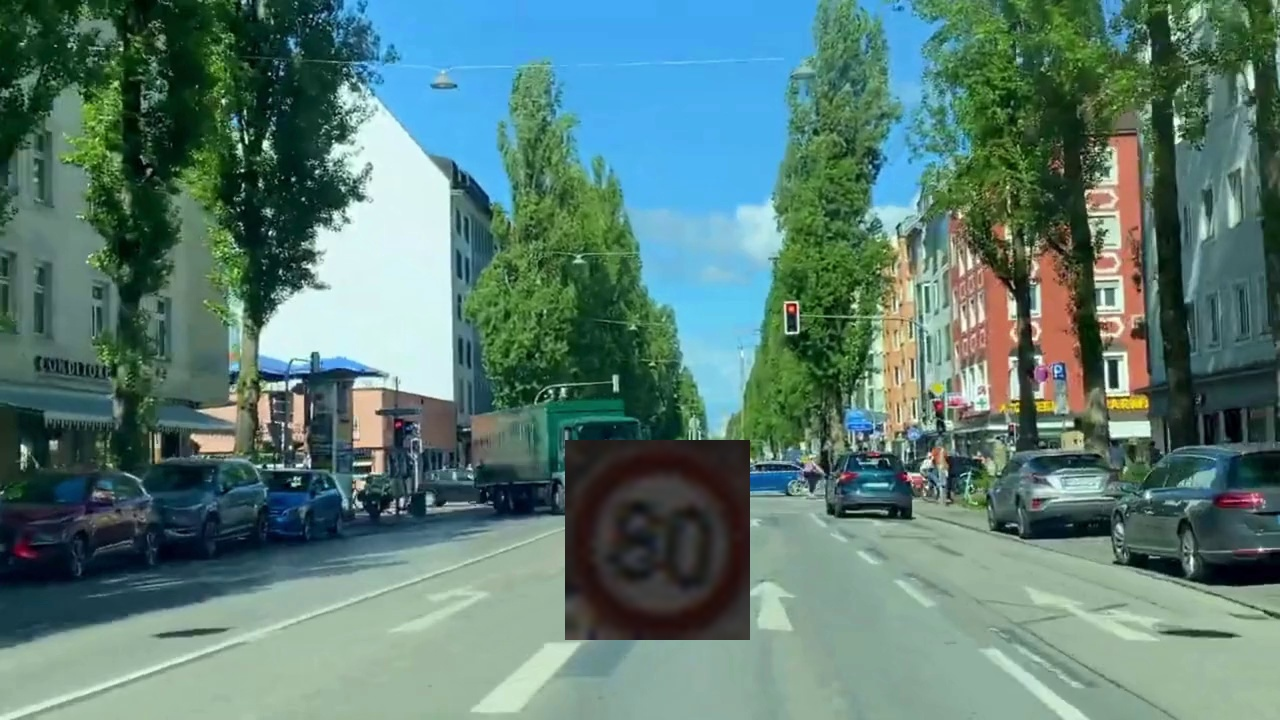Speed 80: (565, 440, 750, 640)
